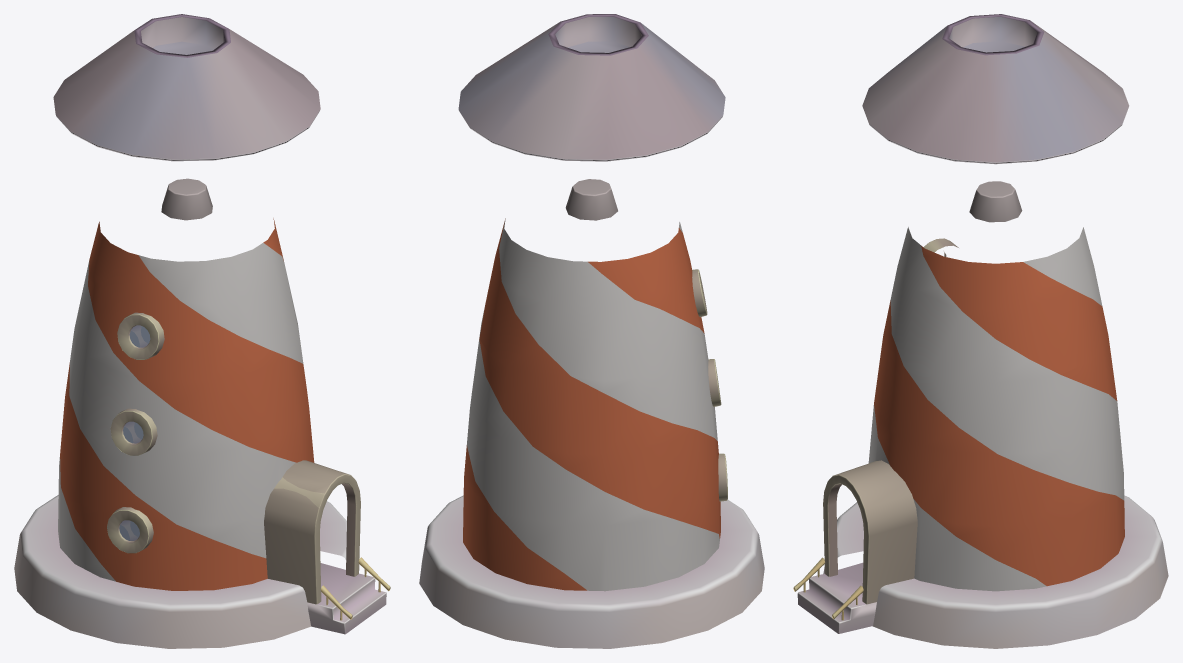
Rendered from LighthouseTower.glb.
3 views of the same model, side by side, from view 1: azimuth 30°, elevation 25°; view 2: azimuth 150°, elevation 25°; view 3: azimuth 270°, elevation 25° (orthographic).
Parts seen in each view (by area): view 1: LighthouseTower; view 2: LighthouseTower; view 3: LighthouseTower.
Boxes of the visible parts, <box> form: LighthouseTower: <box>14,14,390,648</box>; LighthouseTower: <box>419,14,764,648</box>; LighthouseTower: <box>793,14,1168,648</box>.
Size of the model in its own units: 4.98 by 8.56 by 5.41.
